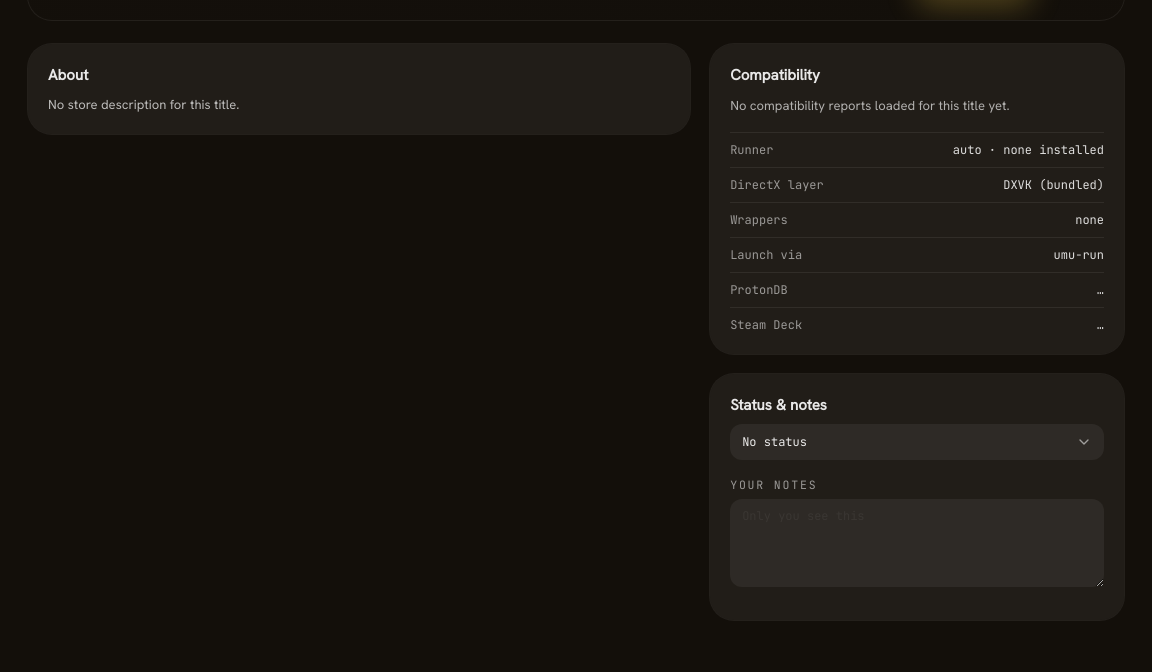
game notes autosave › saves a burst of typing once, debounced, with the save label
The width and height of the screenshot is (1152, 672).
(page scrolled)
In the text box with test id "notes-input": (917, 543) [730,499,1104,587], type "a"
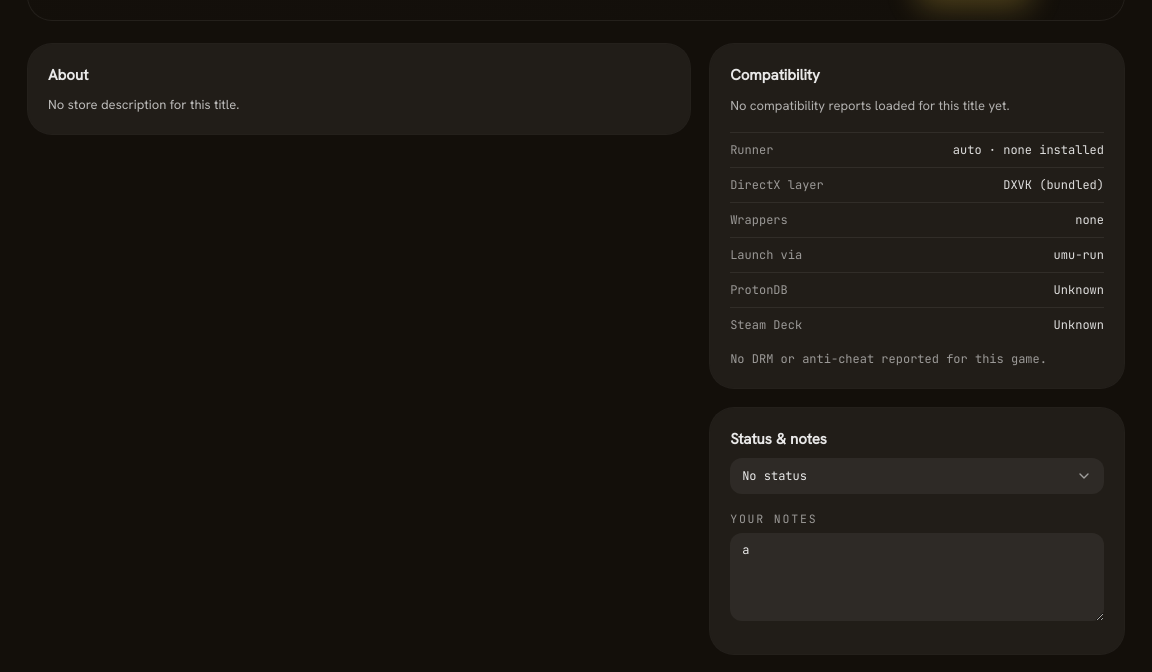
Replace the text in the text box with test id "notes-input" with "ab": (917, 577) [730,533,1104,621]
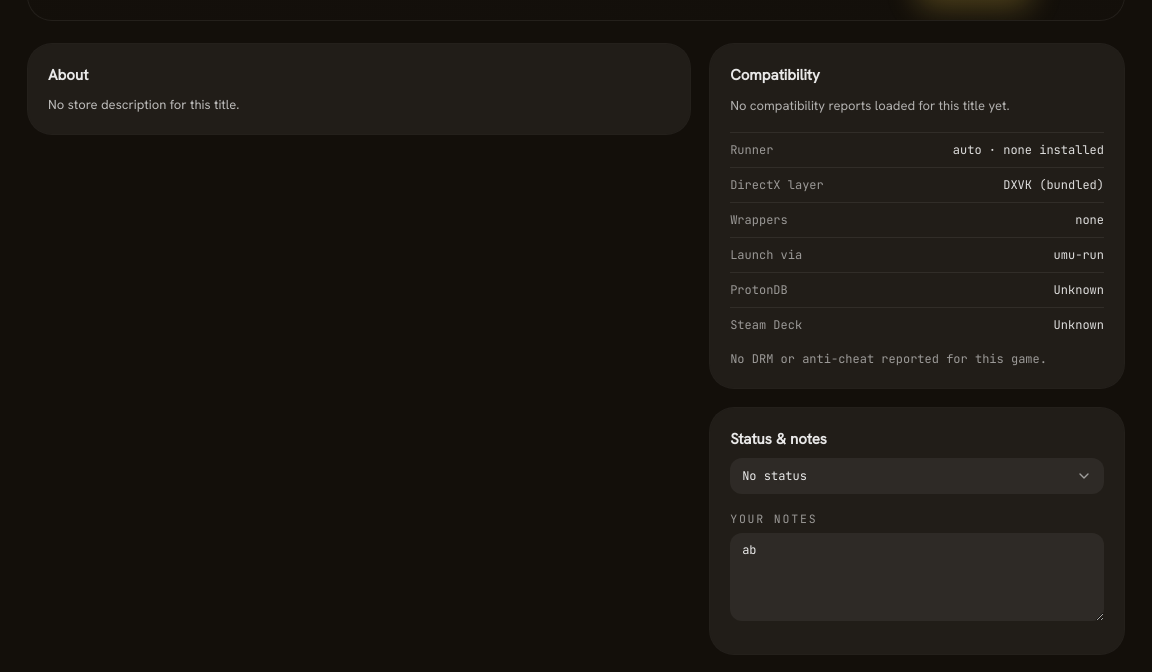
Replace the text in the text box with test id "notes-input" with "abc": (917, 577) [730,533,1104,621]
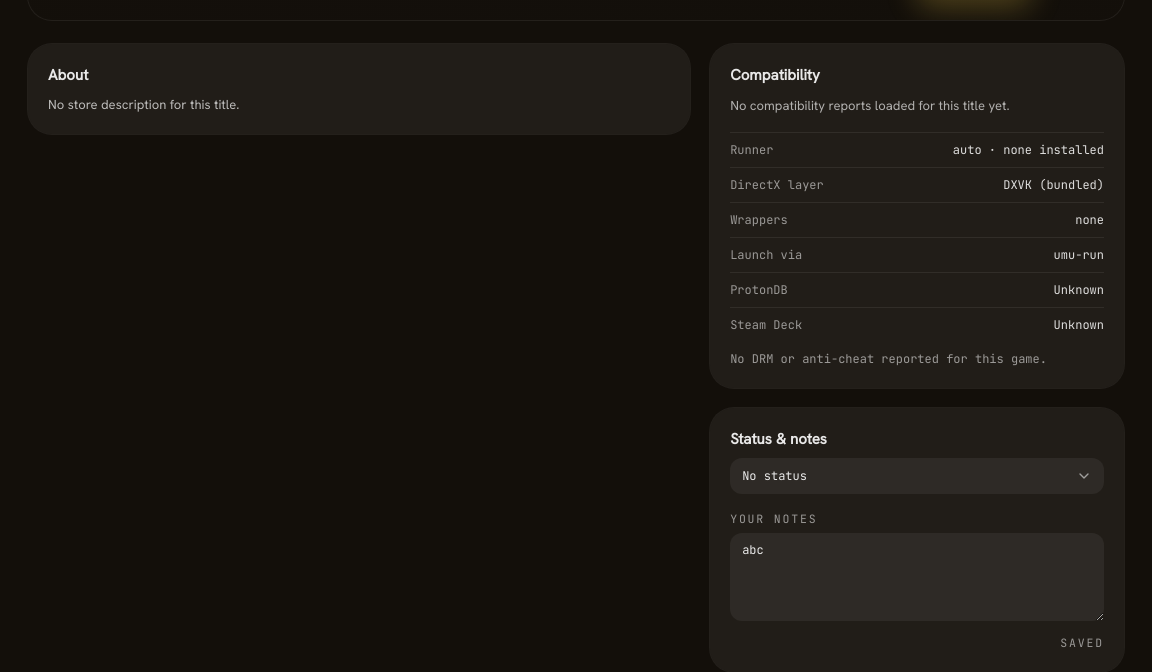
Result: the text "Saved" is shown at [1060,635,1104,650]
